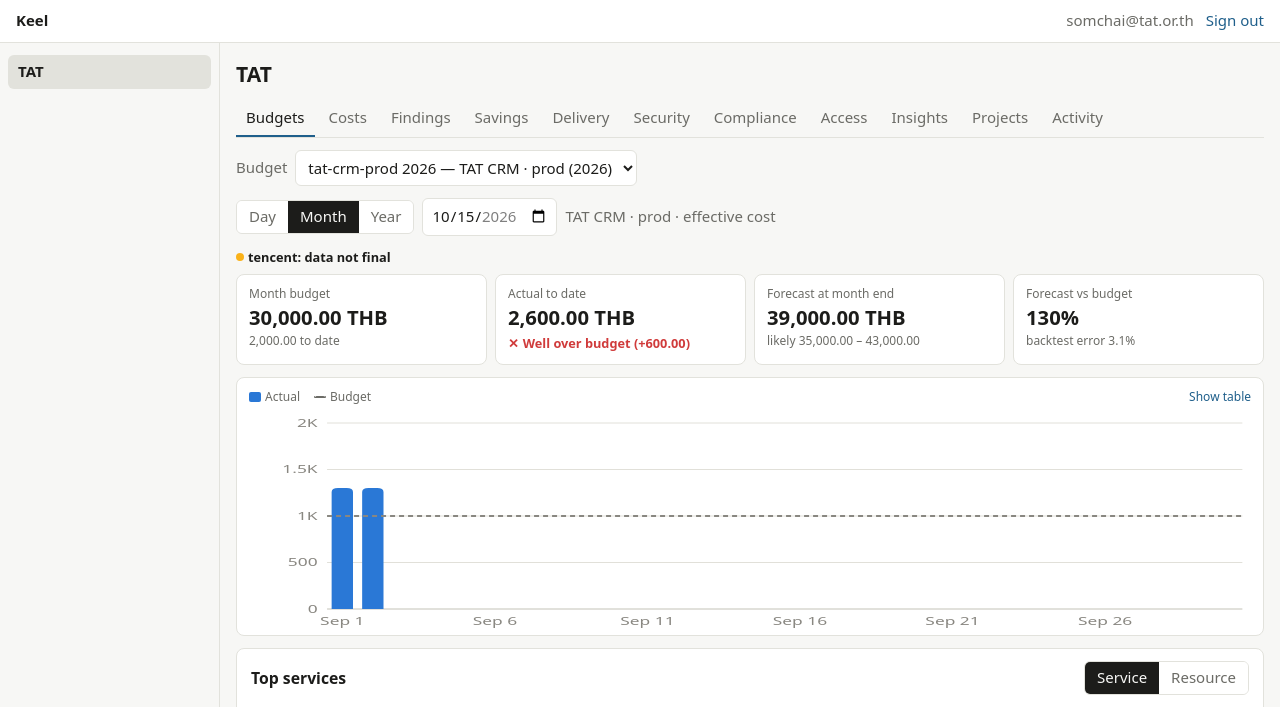
finops screens › insights hides Regenerate from principals without report.generate
The width and height of the screenshot is (1280, 707).
Click the tab "Insights": (920, 119) top-left (882, 101), bottom-right (958, 137)
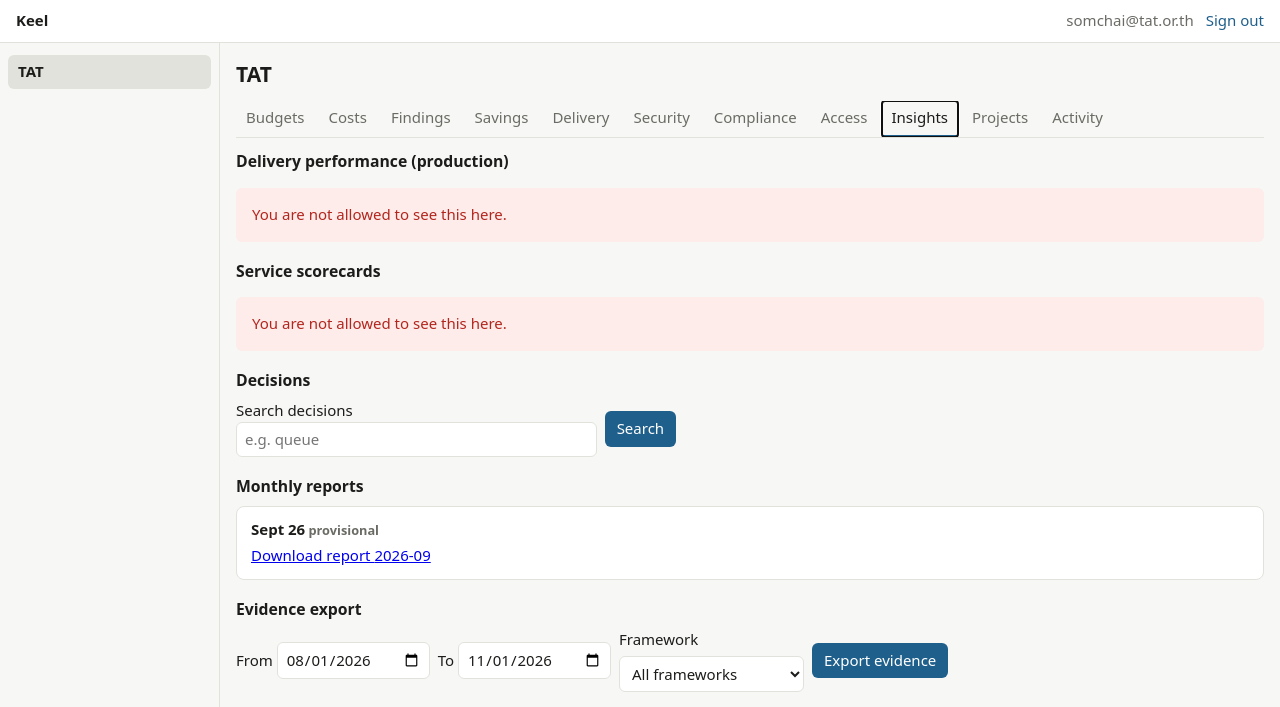
Expected: the text "provisional" is shown, top-left (305, 521), bottom-right (379, 539)
